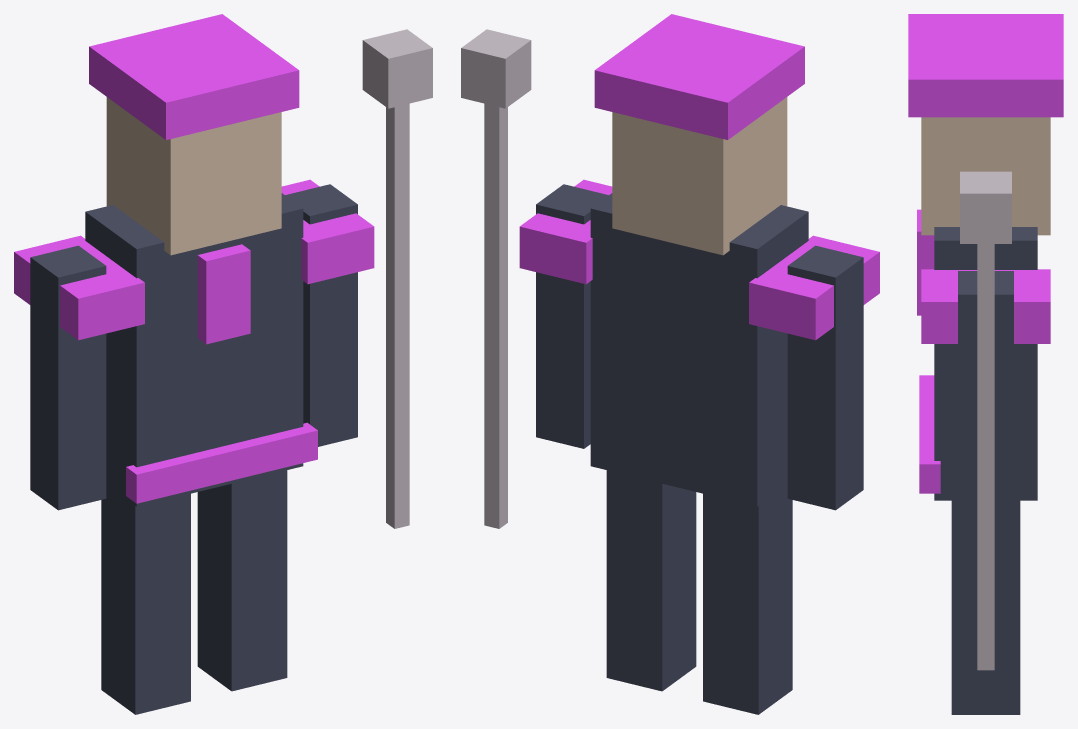
File: 03_luma_brightlock_runner_under_vendor.glb
3 views of the same model, side by side, from view 1: azimuth 30°, elevation 25°; view 2: azimuth 150°, elevation 25°; view 3: azimuth 270°, elevation 25° (orthographic).
Visible parts, largest first — view 1: Luma Brightlock, Runner under Vendor; view 2: Luma Brightlock, Runner under Vendor; view 3: Luma Brightlock, Runner under Vendor.
Boxes of the visible parts, <box> form: Luma Brightlock, Runner under Vendor: <box>14,14,432,714</box>; Luma Brightlock, Runner under Vendor: <box>461,14,879,714</box>; Luma Brightlock, Runner under Vendor: <box>908,14,1063,714</box>.
Bounding box in the file's own units: 0.9979 × 1.59 × 0.3539.
